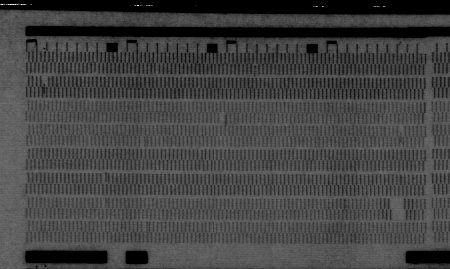Broken hole: (388, 198, 409, 221)
Oblique printing: (395, 126, 407, 142), (137, 135, 150, 149), (39, 76, 51, 89), (140, 221, 152, 234), (100, 173, 112, 185), (217, 112, 229, 124), (250, 65, 262, 76)
